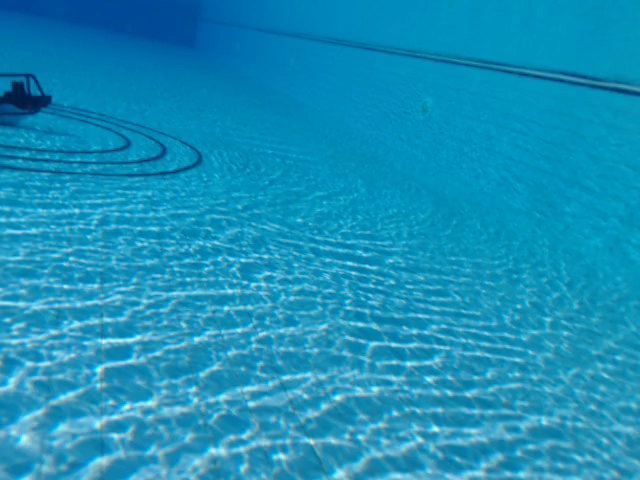submarine: (1, 72, 55, 129)
